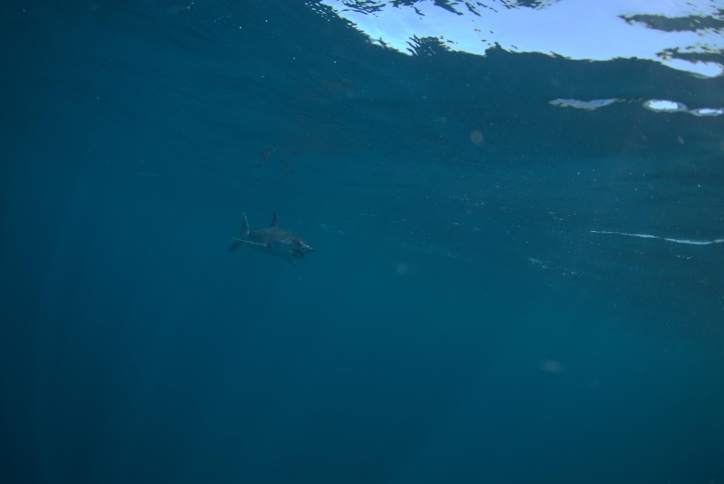Mako: (206, 202, 326, 280)
